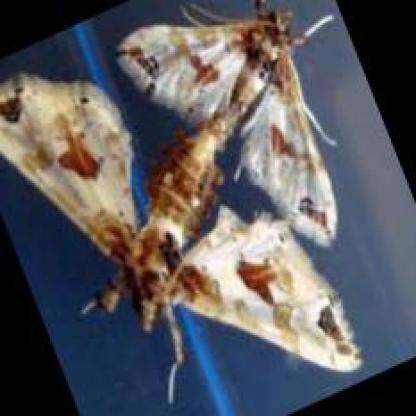leucinodes: (1, 75, 359, 374), (116, 15, 335, 248)
